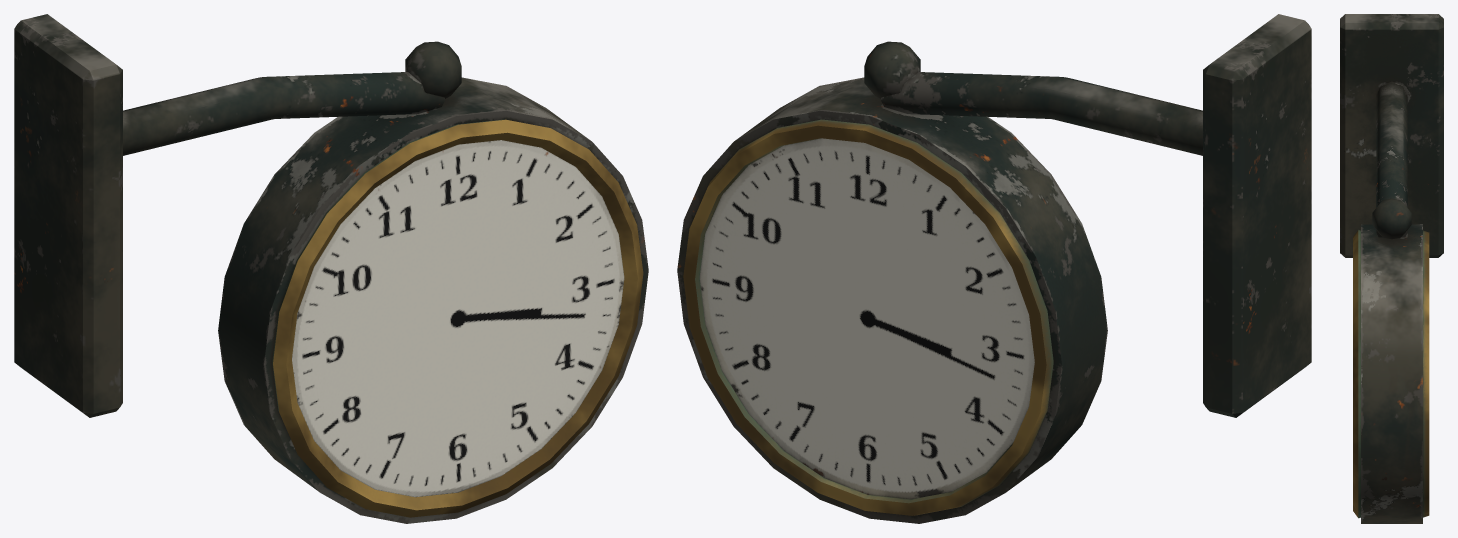
The model's file is PlatformClock.fbx.
The picture shows the model from 3 angles, left to right: view 1: azimuth 30°, elevation 25°; view 2: azimuth 150°, elevation 25°; view 3: azimuth 270°, elevation 25°; orthographic projection. The views are drawn at different scales.
Visible parts, largest first — view 1: PlatformClock; view 2: PlatformClock; view 3: PlatformClock.
Boxes of the visible parts, box(x1,y1,x2,y2) form: PlatformClock: box(14, 14, 648, 523); PlatformClock: box(677, 14, 1311, 523); PlatformClock: box(1340, 14, 1443, 523).
Bounding box in the file's own units: 2.61 × 2.37 × 0.6.
Materials: 1 (1 with a texture image).
